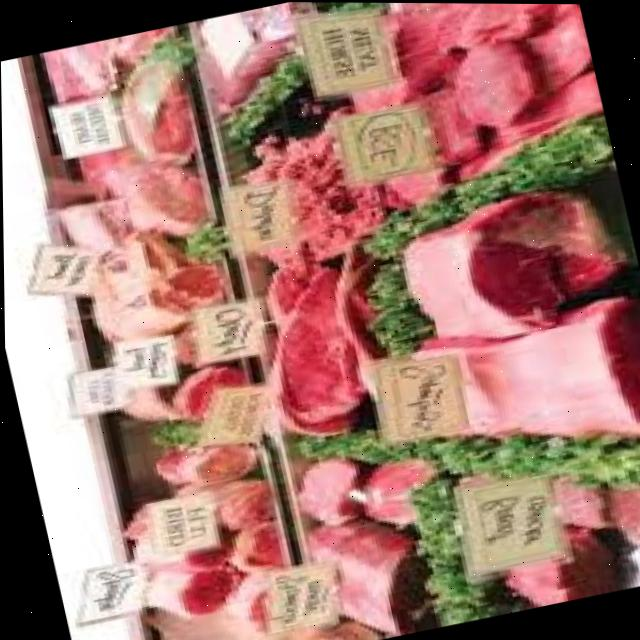Wet: (0, 0, 640, 640), (373, 291, 640, 490), (349, 2, 610, 193), (18, 26, 228, 254), (381, 169, 635, 350), (423, 421, 640, 623), (274, 434, 465, 640), (231, 253, 390, 461), (157, 1, 346, 131), (112, 51, 193, 166)
